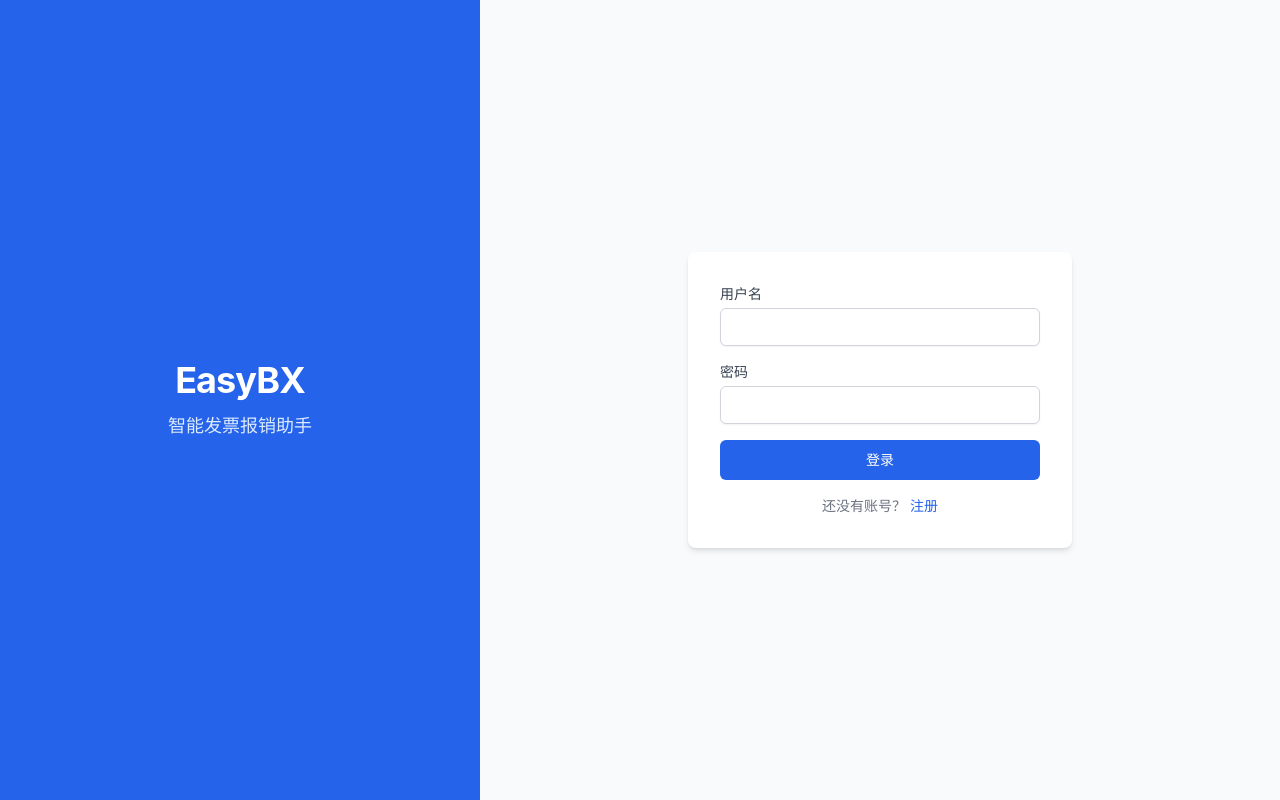
Test case: LoginPage frontend validation › shows error on username input when username is empty and does not send request
This screenshot has width=1280, height=800.
Type "123456" into the password field labelled "密码".
click(880, 405); type("123456")  # box top-left (720, 386), bottom-right (1040, 424)
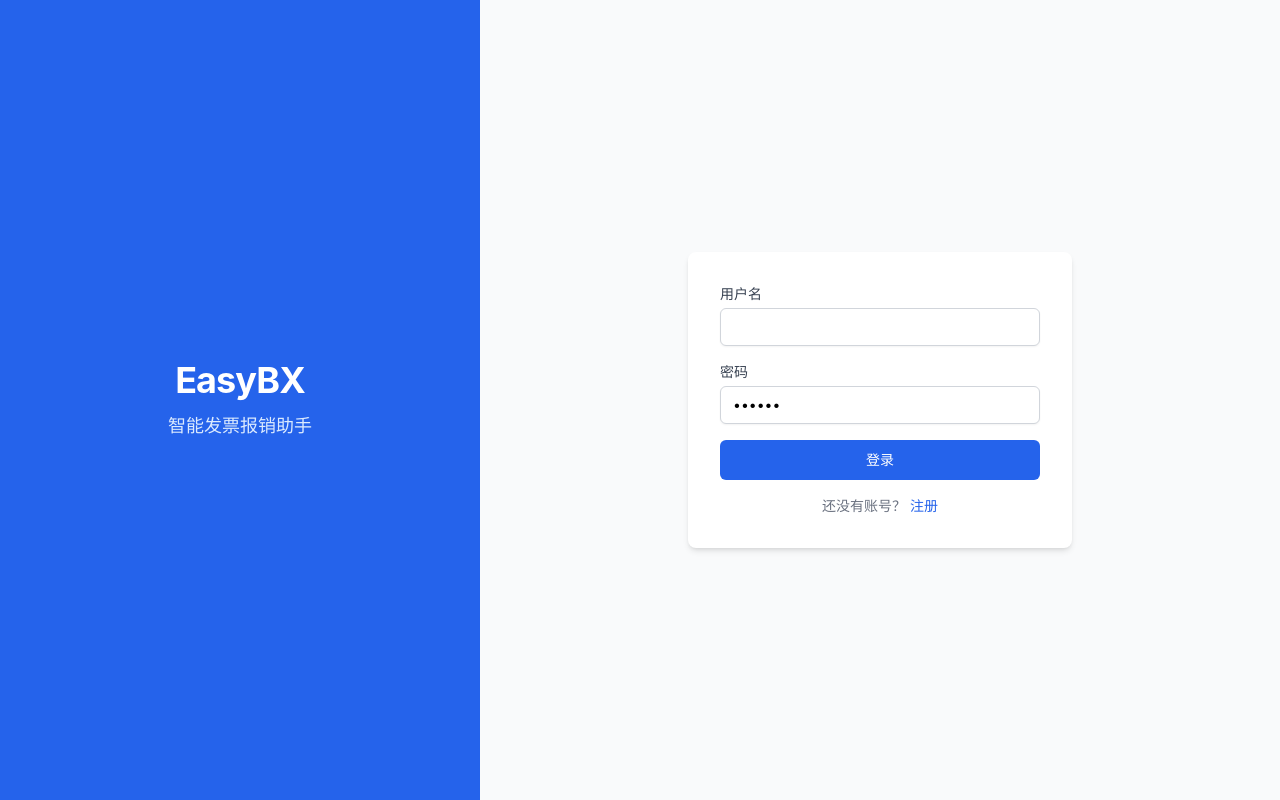
Click the button "登录".
click(880, 460)  # box top-left (720, 440), bottom-right (1040, 480)
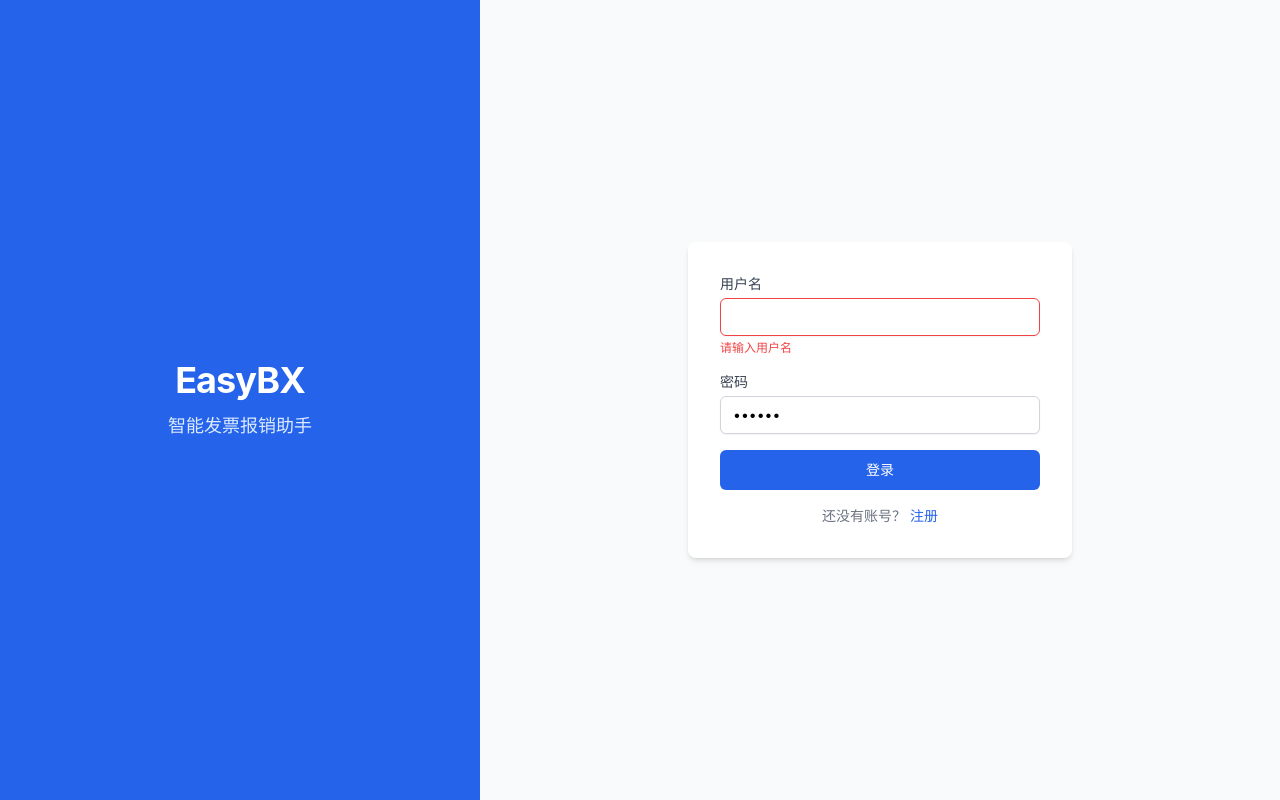
Expected: the text "请输入用户名" is shown, top-left (720, 340), bottom-right (792, 355)
